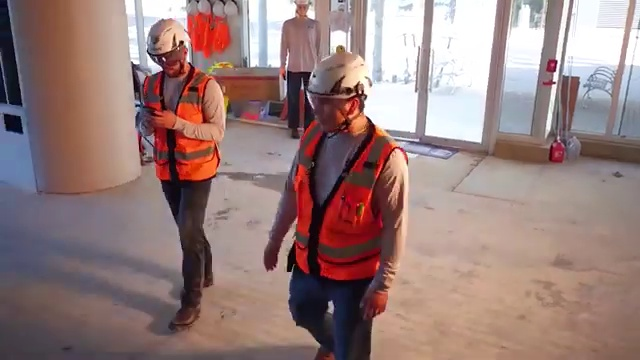helmet: (309, 44, 368, 97), (143, 19, 199, 53)
jacket: (292, 120, 400, 278), (136, 73, 229, 181)
